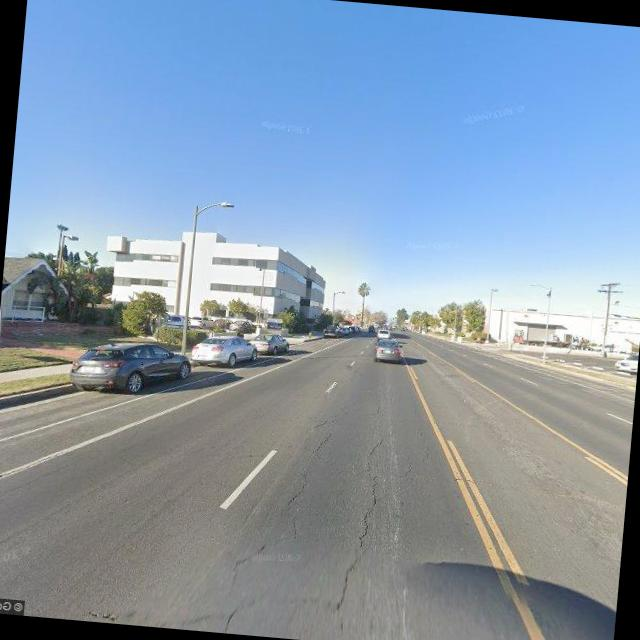pothole: (200, 404, 334, 628), (328, 410, 394, 640)
